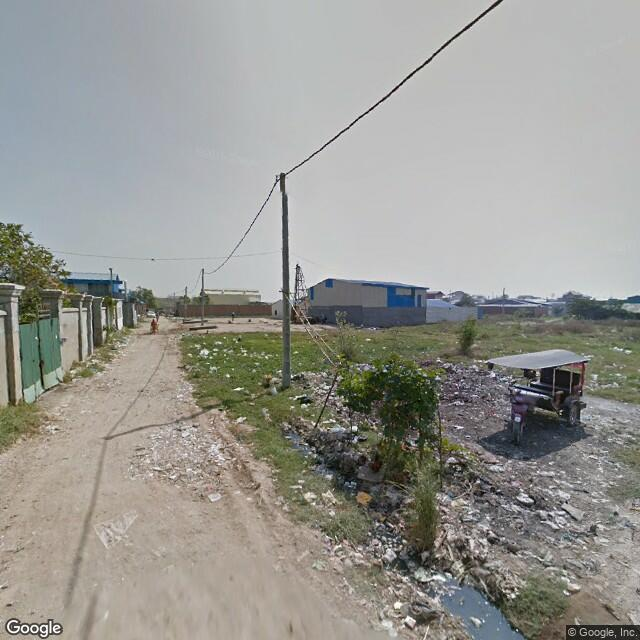litter: (150, 424, 232, 502), (436, 491, 495, 566), (431, 362, 493, 418), (332, 541, 408, 564), (303, 488, 345, 523), (407, 597, 439, 624), (562, 499, 583, 523), (513, 483, 531, 505), (558, 490, 567, 500), (234, 383, 244, 391), (198, 345, 207, 353)
